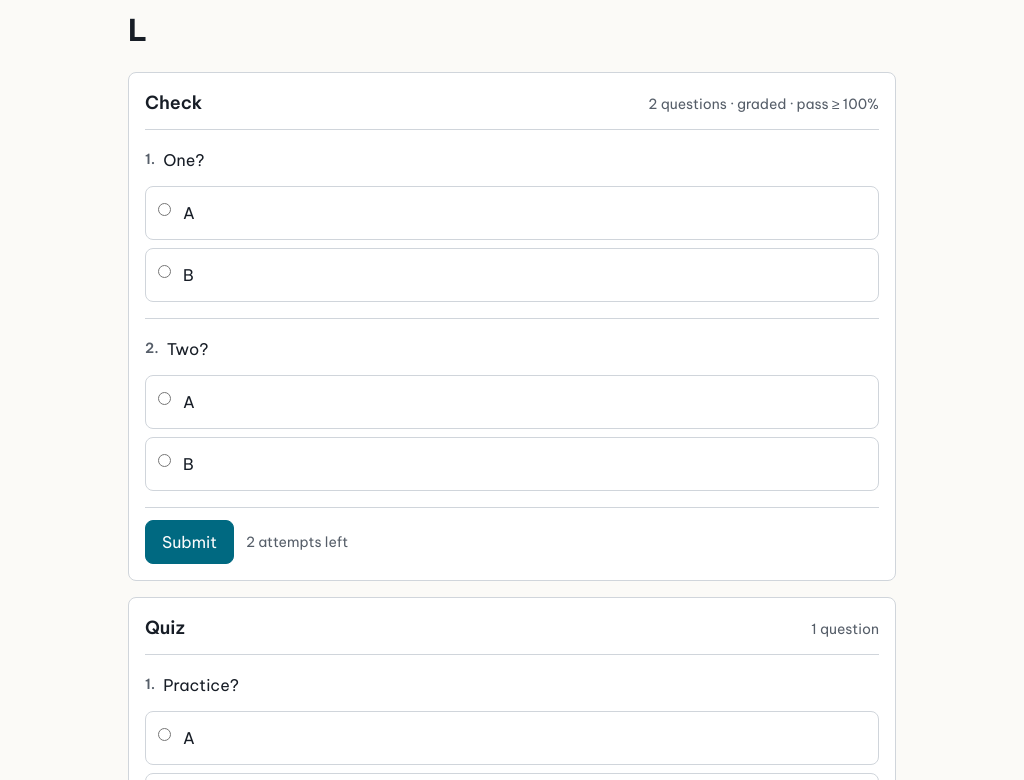
Test: QuizRenderer › keeps answers and unlocks submit after a non-Error rejection
The image size is (1024, 780).
Step 1. Click the radio button labelled "A" below "One?" → (164, 210), box x1=158 y1=203 x2=171 y2=216
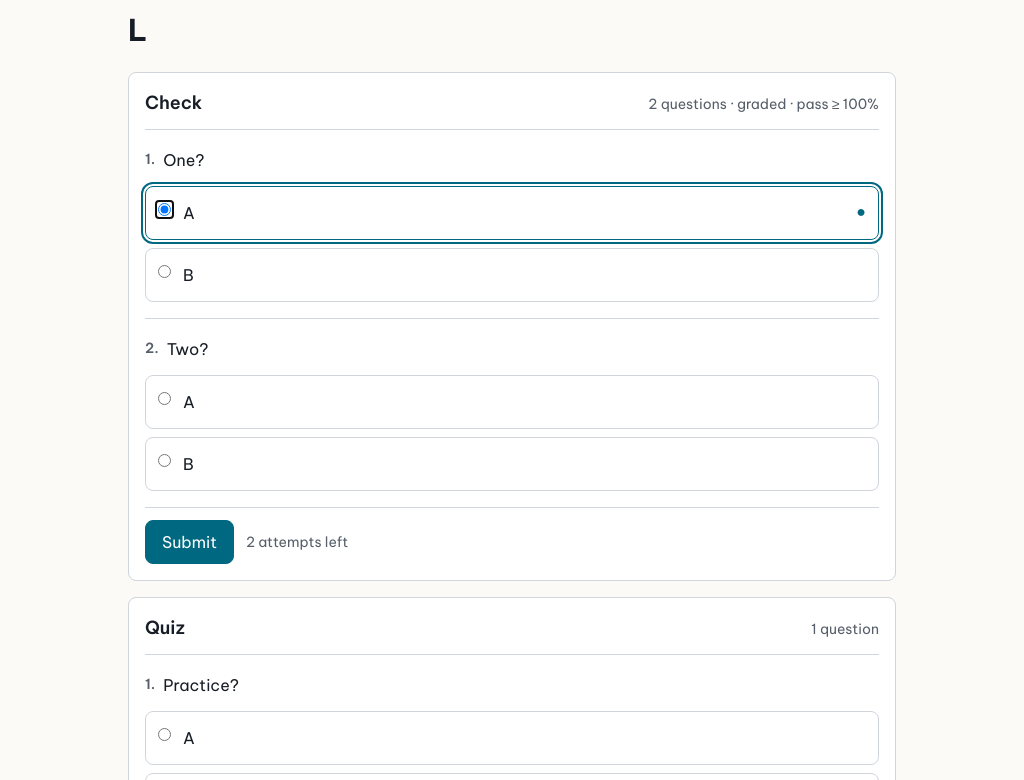
Step 2. Click the button "Submit" → (190, 542), box x1=145 y1=520 x2=234 y2=564
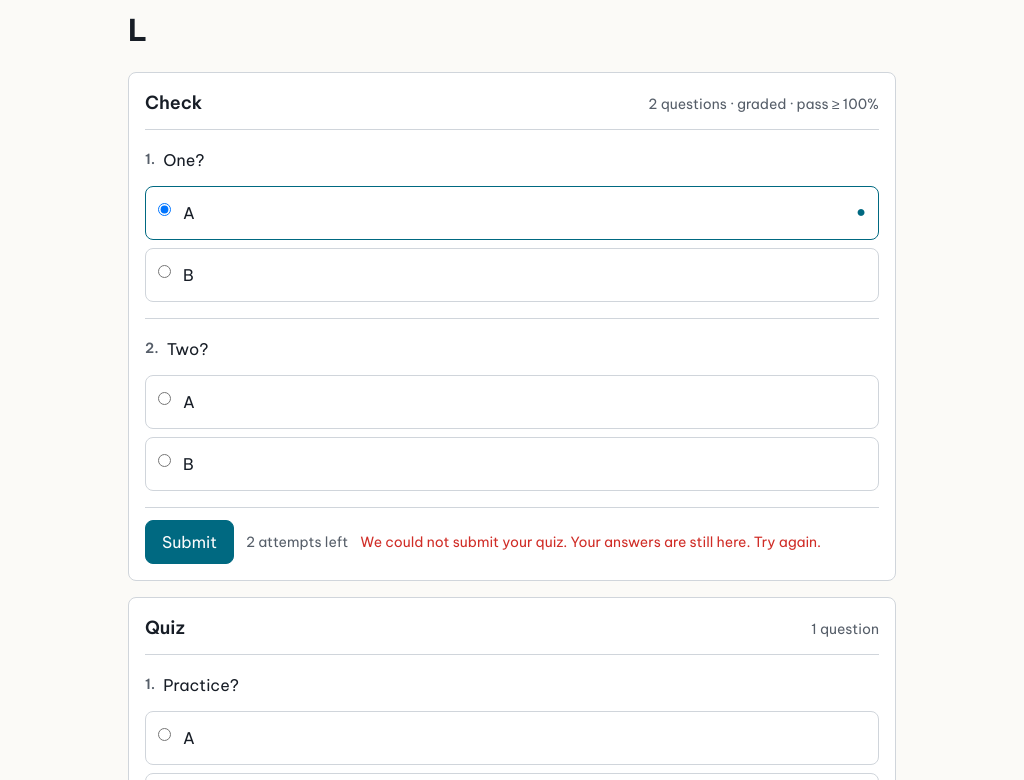
expect the radio button labelled "A" is checked: met, box x1=158 y1=203 x2=171 y2=216
expect the message shows "could not submit your quiz": met, box x1=360 y1=533 x2=821 y2=551
